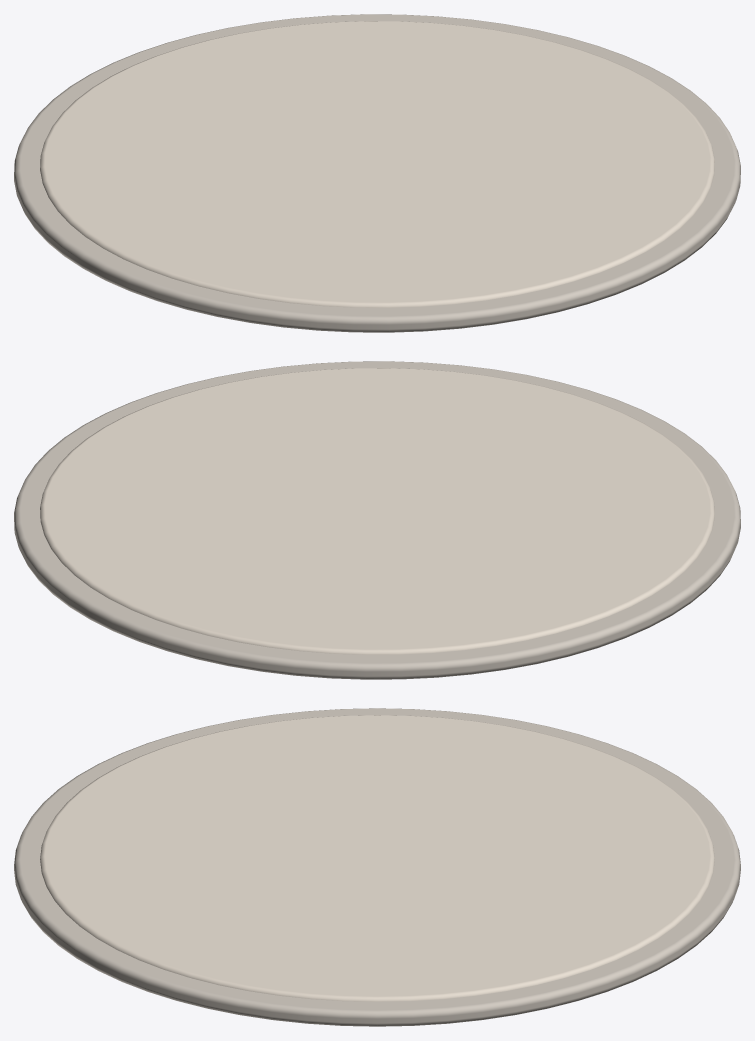
The model's file is rug_round__311.glb.
The picture shows the model from 3 angles, top to bottom: view 1: azimuth 30°, elevation 25°; view 2: azimuth 150°, elevation 25°; view 3: azimuth 270°, elevation 25°; orthographic projection.
Parts seen in each view (by area): view 1: rug_round__311; view 2: rug_round__311; view 3: rug_round__311.
Boxes of the visible parts, x1,y1,x2,y2 form: rug_round__311: (14, 14, 740, 332); rug_round__311: (14, 361, 740, 679); rug_round__311: (14, 708, 740, 1026).
Size of the model in its own units: 1 by 0.03 by 1.
